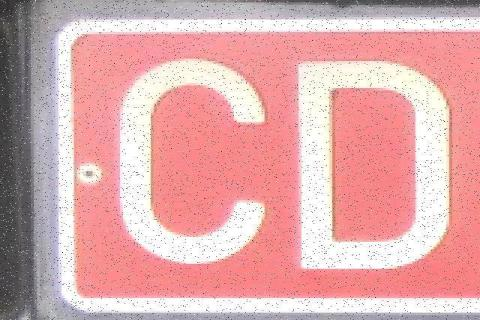LicensePlate: (48, 9, 480, 318)
